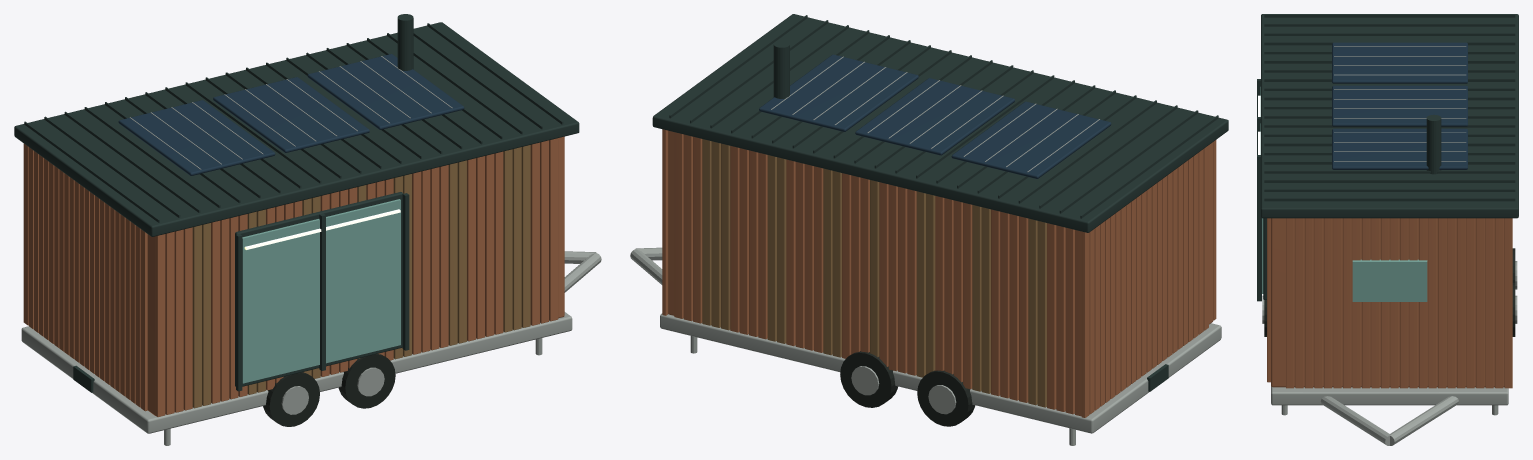
File: tiny_baluchon.glb
3 renders of one model, left to right at view 1: azimuth 30°, elevation 25°; view 2: azimuth 150°, elevation 25°; view 3: azimuth 270°, elevation 25°, orthographic. The views are drawn at different scales.
Visible parts, largest first — view 1: Falcovaná střecha, Dvojsklo, Vlemmix pozinkovaný rám, Solární modul.001, Solární modul, Solární modul.002, Izolovaný plášť, Francouzská panoramatická okna, Svislé modřínové palubky.001, Svislé modřínové palubky.015, Svislé modřínové palubky.059, Svislé modřínové palubky.061 (+63 smaller); view 2: Falcovaná střecha, Vlemmix pozinkovaný rám, Solární modul, Solární modul.001, Solární modul.002, Izolovaný plášť, Svislé modřínové palubky.054, Svislé modřínové palubky.010, Svislé modřínové palubky.016, Svislé modřínové palubky.020, Svislé modřínové palubky.062, Svislé modřínové palubky.072 (+75 smaller); view 3: Falcovaná střecha, Izolovaný plášť, Solární modul, Solární modul.001, Solární modul.002, Vlemmix pozinkovaný rám, Boční koupelnové okno, Boční obklad.001, Boční obklad.003, Boční obklad.005, Boční obklad.007, Boční obklad.009 (+46 smaller).
Part boxes in pixels (bbox=[...]): Falcovaná střecha: bbox=[14, 22, 579, 236]; Dvojsklo: bbox=[242, 199, 400, 383]; Vlemmix pozinkovaný rám: bbox=[21, 312, 572, 433]; Solární modul.001: bbox=[213, 77, 369, 152]; Solární modul: bbox=[118, 100, 275, 175]; Solární modul.002: bbox=[307, 54, 464, 129]; Izolovaný plášť: bbox=[147, 136, 564, 415]; Francouzská panoramatická okna: bbox=[235, 192, 403, 386]; Svislé modřínové palubky.001: bbox=[155, 234, 165, 416]; Svislé modřínové palubky.015: bbox=[220, 218, 229, 401]; Svislé modřínové palubky.059: bbox=[421, 169, 430, 352]; Svislé modřínové palubky.061: bbox=[430, 167, 439, 350]; Falcovaná střecha: bbox=[652, 14, 1228, 232]; Vlemmix pozinkovaný rám: bbox=[660, 313, 1221, 433]; Solární modul: bbox=[951, 101, 1111, 178]; Solární modul.001: bbox=[855, 78, 1014, 155]; Solární modul.002: bbox=[759, 54, 918, 131]; Izolovaný plášť: bbox=[668, 130, 1213, 324]; Svislé modřínové palubky.054: bbox=[823, 168, 832, 355]; Svislé modřínové palubky.010: bbox=[1028, 218, 1037, 405]; Svislé modřínové palubky.016: bbox=[1000, 211, 1009, 398]; Svislé modřínové palubky.020: bbox=[981, 207, 990, 393]; Svislé modřínové palubky.062: bbox=[786, 159, 795, 346]; Svislé modřínové palubky.072: bbox=[739, 148, 748, 334]; Falcovaná střecha: bbox=[1261, 14, 1518, 218]; Izolovaný plášť: bbox=[1271, 218, 1504, 387]; Solární modul: bbox=[1332, 42, 1467, 83]; Solární modul.001: bbox=[1332, 85, 1467, 126]; Solární modul.002: bbox=[1332, 128, 1467, 169]; Vlemmix pozinkovaný rám: bbox=[1271, 386, 1508, 405]; Boční koupelnové okno: bbox=[1352, 259, 1427, 301]; Boční obklad.001: bbox=[1504, 218, 1512, 388]; Boční obklad.003: bbox=[1495, 218, 1503, 388]; Boční obklad.005: bbox=[1485, 218, 1493, 388]; Boční obklad.007: bbox=[1476, 218, 1484, 388]; Boční obklad.009: bbox=[1466, 218, 1474, 388].
Size of the model in its own units: 8.2 by 4.45 by 3.85.
